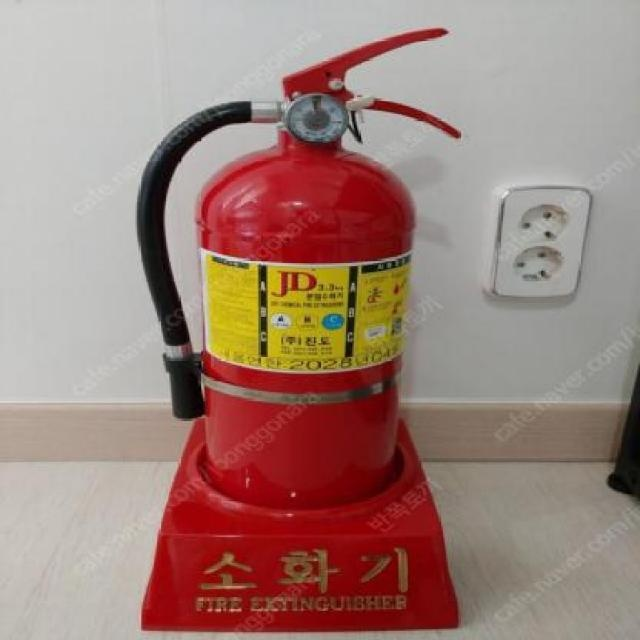fire extinguisher: (136, 29, 461, 511)
